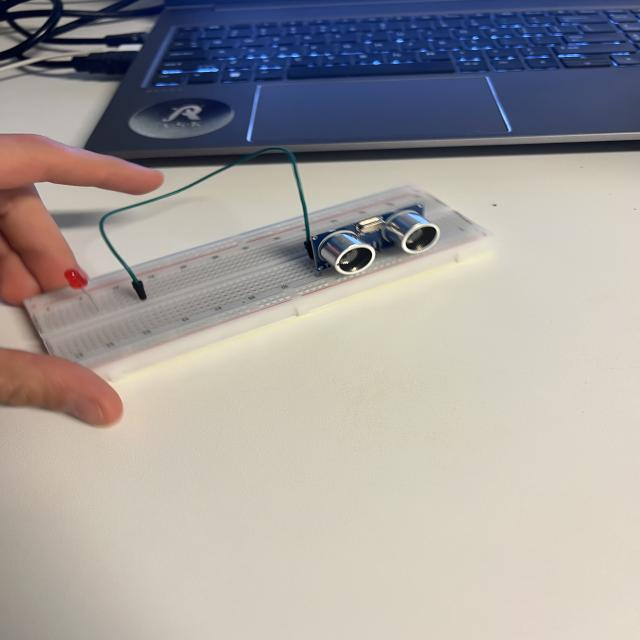BreadBoard: (23, 183, 501, 370)
REDLed: (61, 264, 99, 298)
UltrasoneSensor: (310, 205, 454, 288)
